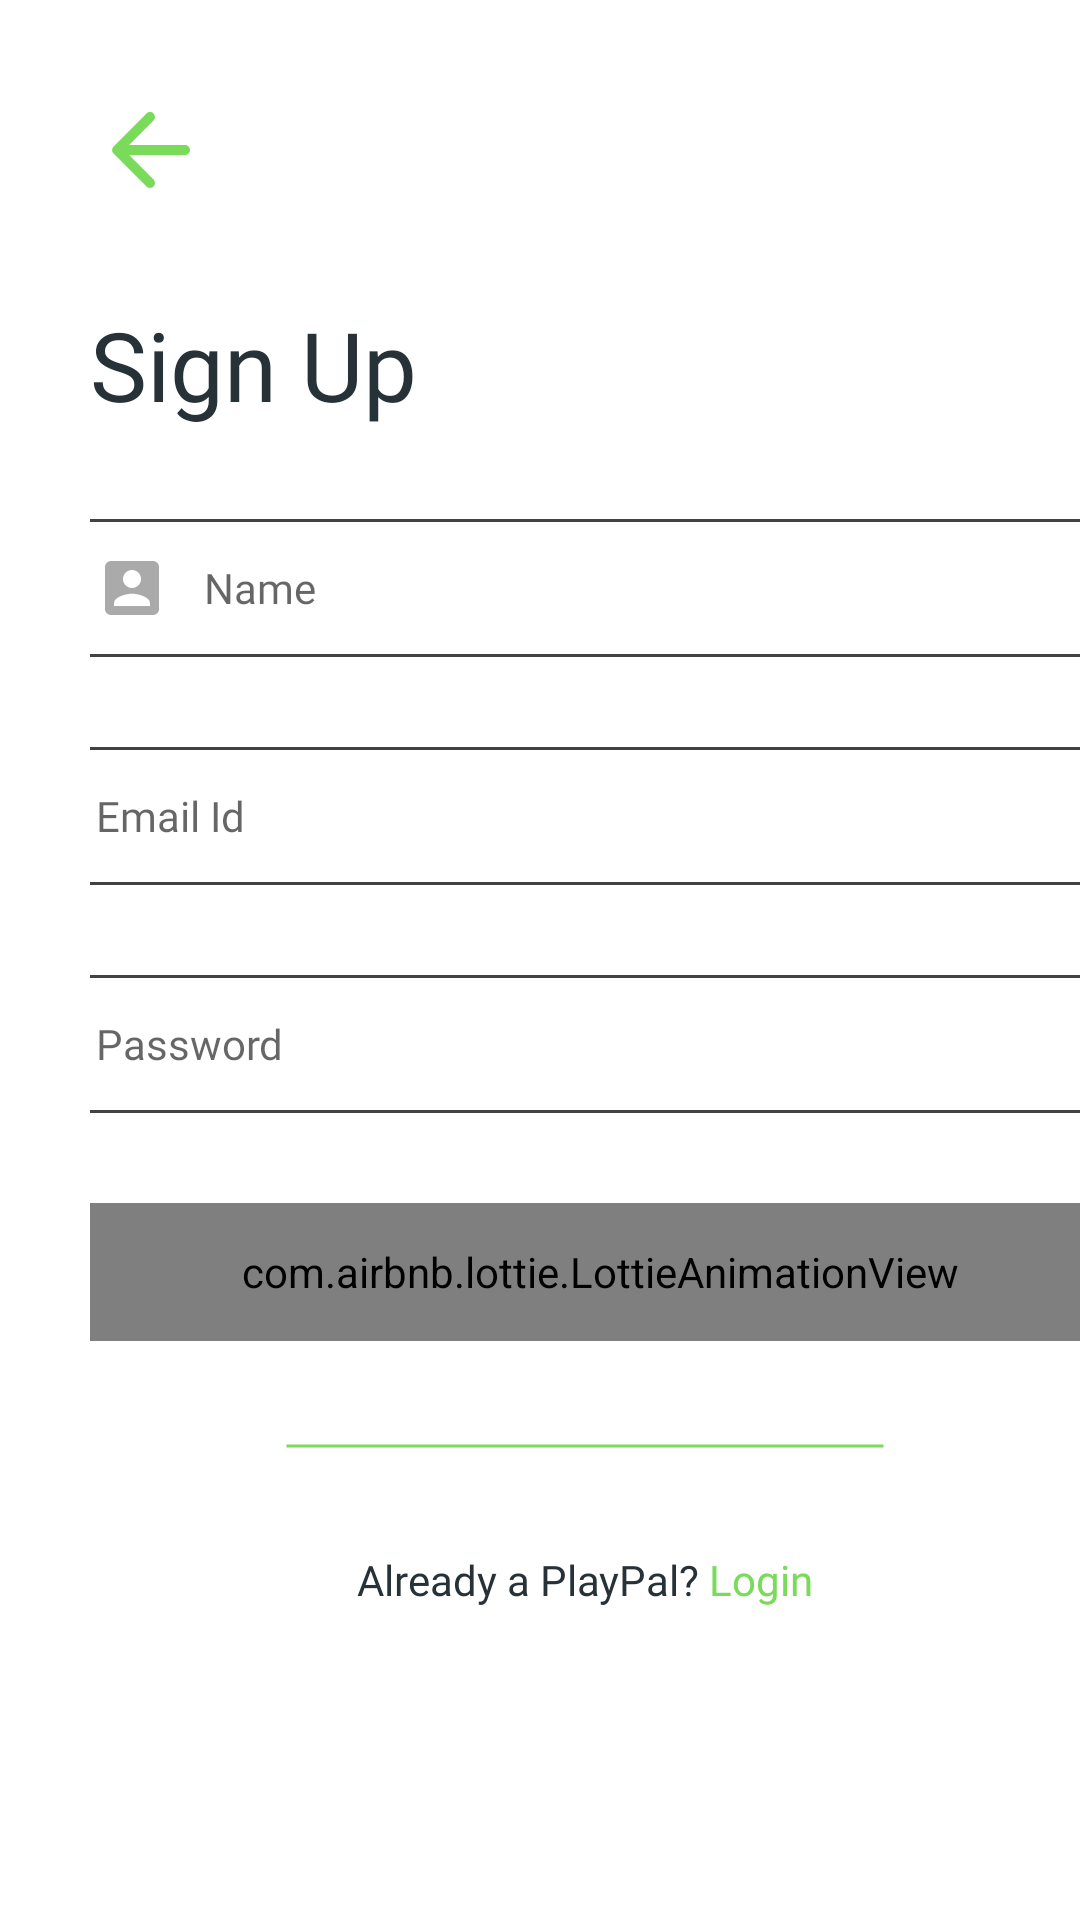

Locate icon controls on the screen. Image size 1080*1920, boxes as (left=x1, top=y1, right=x2, bottom=y2).
arrow back: (left=112, top=112, right=190, bottom=188)
